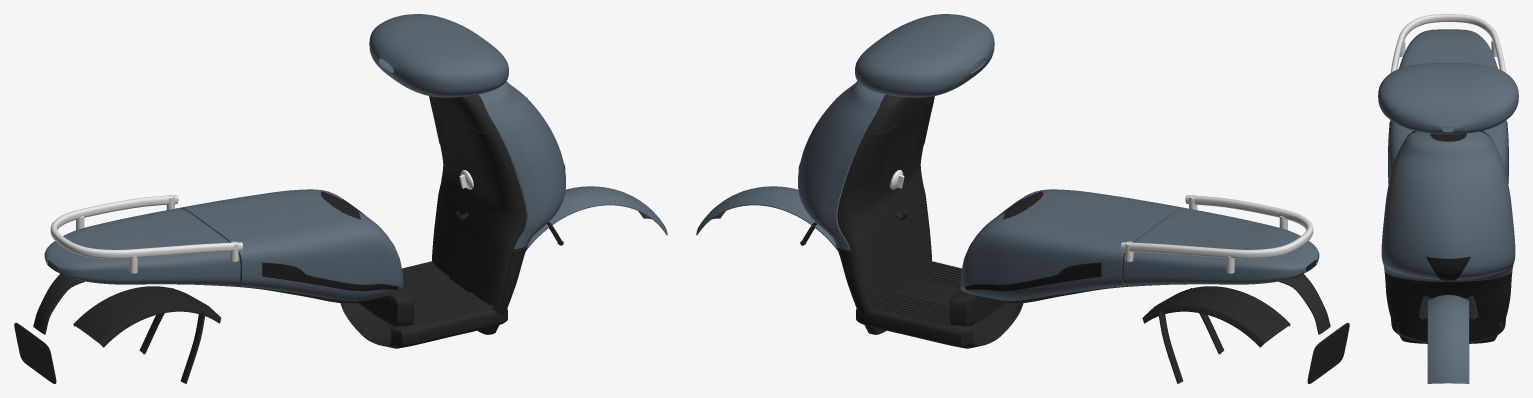
File: bike_scooter__bodywork.glb
The picture shows the model from 3 angles, left to right: view 1: azimuth 30°, elevation 25°; view 2: azimuth 150°, elevation 25°; view 3: azimuth 270°, elevation 25°; orthographic projection. The views are drawn at different scales.
Parts seen in each view (by area): view 1: frame_body__side_panels, frame_body__leg_shield, frame_body__tail_cowl, frame_body__handlebar_cowl, frame_body__front_shield, frame_body__rear_hugger, frame_body__floorboard, frame_body__grab_rail, frame_body__floorboard__mats, frame_body__number_plate_hanger, frame_body__front_mudguard, frame_body__leg_shield__glovebox_lids (+3 smaller); view 2: frame_body__side_panels, frame_body__leg_shield, frame_body__tail_cowl, frame_body__handlebar_cowl, frame_body__front_shield, frame_body__rear_hugger, frame_body__floorboard, frame_body__grab_rail, frame_body__floorboard__mats, frame_body__number_plate_hanger, frame_body__front_mudguard, frame_body__leg_shield__glovebox_lids (+3 smaller); view 3: frame_body__front_shield, frame_body__handlebar_cowl, frame_body__front_lower_cover, frame_body__front_mudguard, frame_body__tail_cowl, frame_body__grab_rail, frame_body__side_panels, frame_body__front_shield__nose_garnish, frame_body__front_mudguard__brackets, frame_body__leg_shield, frame_body__floorboard.
Part boxes in pixels (x1,y1,x2,y2): frame_body__side_panels: [180, 189, 403, 300]; frame_body__leg_shield: [430, 94, 526, 334]; frame_body__tail_cowl: [44, 208, 240, 286]; frame_body__handlebar_cowl: [369, 14, 508, 97]; frame_body__front_shield: [478, 81, 565, 249]; frame_body__rear_hugger: [73, 286, 221, 383]; frame_body__floorboard: [340, 278, 507, 348]; frame_body__grab_rail: [50, 195, 242, 273]; frame_body__floorboard__mats: [402, 261, 494, 328]; frame_body__number_plate_hanger: [14, 274, 84, 383]; frame_body__front_mudguard: [523, 186, 667, 250]; frame_body__leg_shield__glovebox_lids: [429, 96, 513, 189]; frame_body__side_panels: [960, 189, 1183, 300]; frame_body__leg_shield: [837, 94, 933, 334]; frame_body__tail_cowl: [1123, 208, 1319, 286]; frame_body__handlebar_cowl: [855, 14, 994, 97]; frame_body__front_shield: [798, 81, 885, 249]; frame_body__rear_hugger: [1142, 286, 1290, 383]; frame_body__floorboard: [856, 278, 1023, 348]; frame_body__grab_rail: [1121, 195, 1313, 273]; frame_body__floorboard__mats: [869, 261, 961, 328]; frame_body__number_plate_hanger: [1279, 274, 1349, 383]; frame_body__front_mudguard: [696, 186, 840, 250]; frame_body__leg_shield__glovebox_lids: [850, 96, 934, 189]; frame_body__front_shield: [1381, 131, 1515, 280]; frame_body__handlebar_cowl: [1378, 63, 1518, 134]; frame_body__front_lower_cover: [1384, 271, 1512, 343]; frame_body__front_mudguard: [1427, 295, 1469, 383]; frame_body__tail_cowl: [1399, 29, 1497, 68]; frame_body__grab_rail: [1390, 14, 1505, 72]; frame_body__side_panels: [1388, 120, 1508, 181]; frame_body__front_shield__nose_garnish: [1426, 256, 1470, 280]; frame_body__front_mudguard__brackets: [1418, 295, 1478, 320]; frame_body__leg_shield: [1387, 131, 1508, 281]; frame_body__floorboard: [1391, 318, 1505, 343].
Size of the model in its own units: 191 by 83.3 by 42.22.
